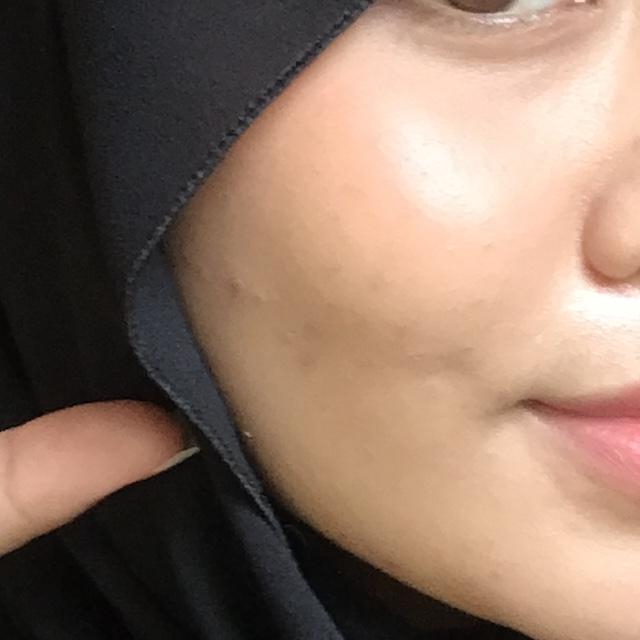mendengar: (0, 0, 365, 640)
